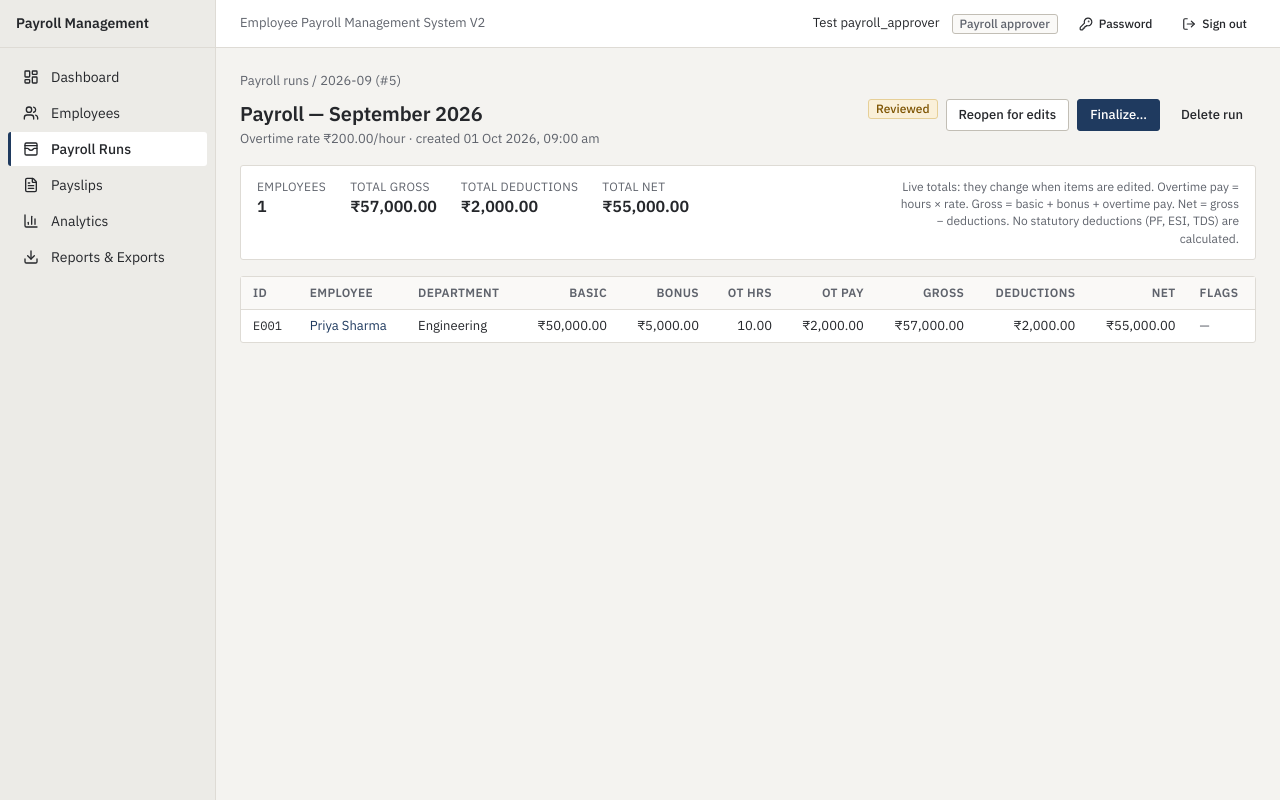
Finalize › without error flags: no acknowledgement needed
Click the button "Finalize…".
click(1118, 115)  # box [1077,99,1160,131]
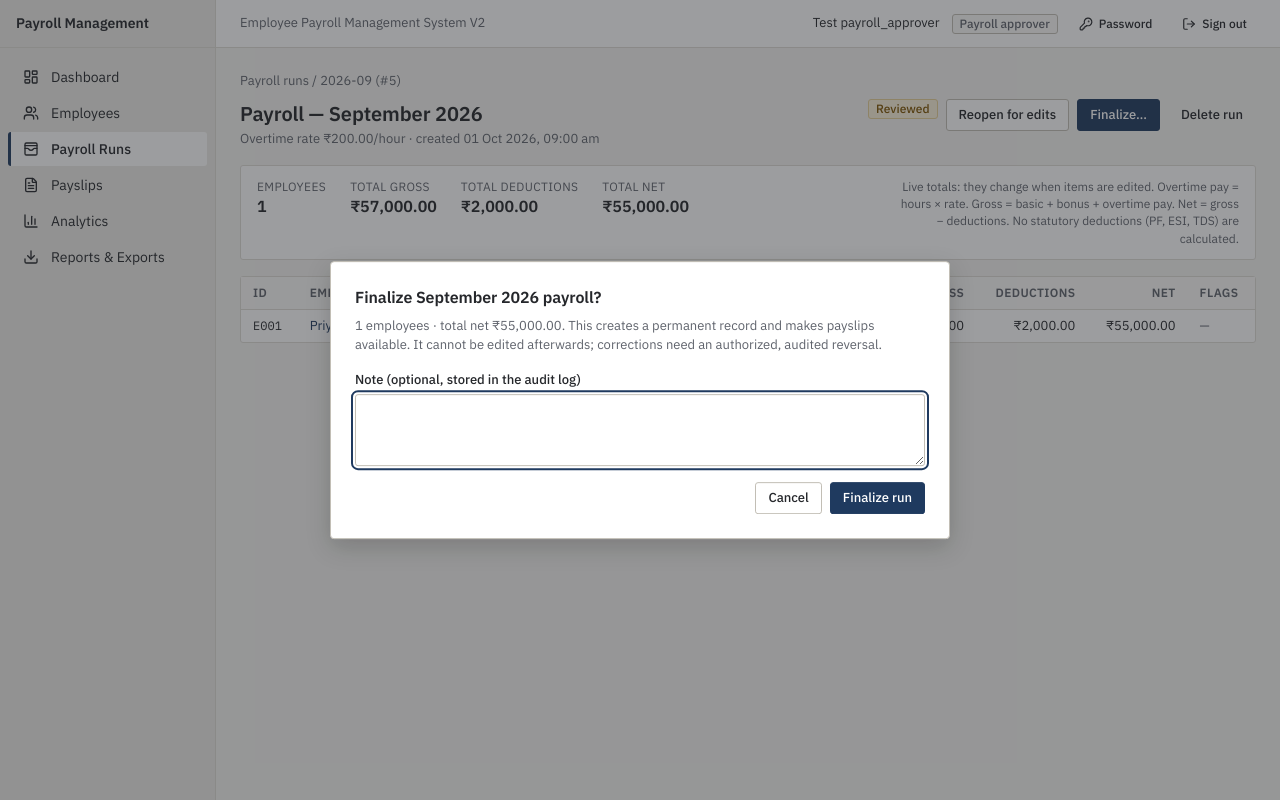
Result: the text "permanent record" is shown at [355,317,882,353]
Click the button "Finalize run".
click(877, 498)  # box [830,482,925,514]
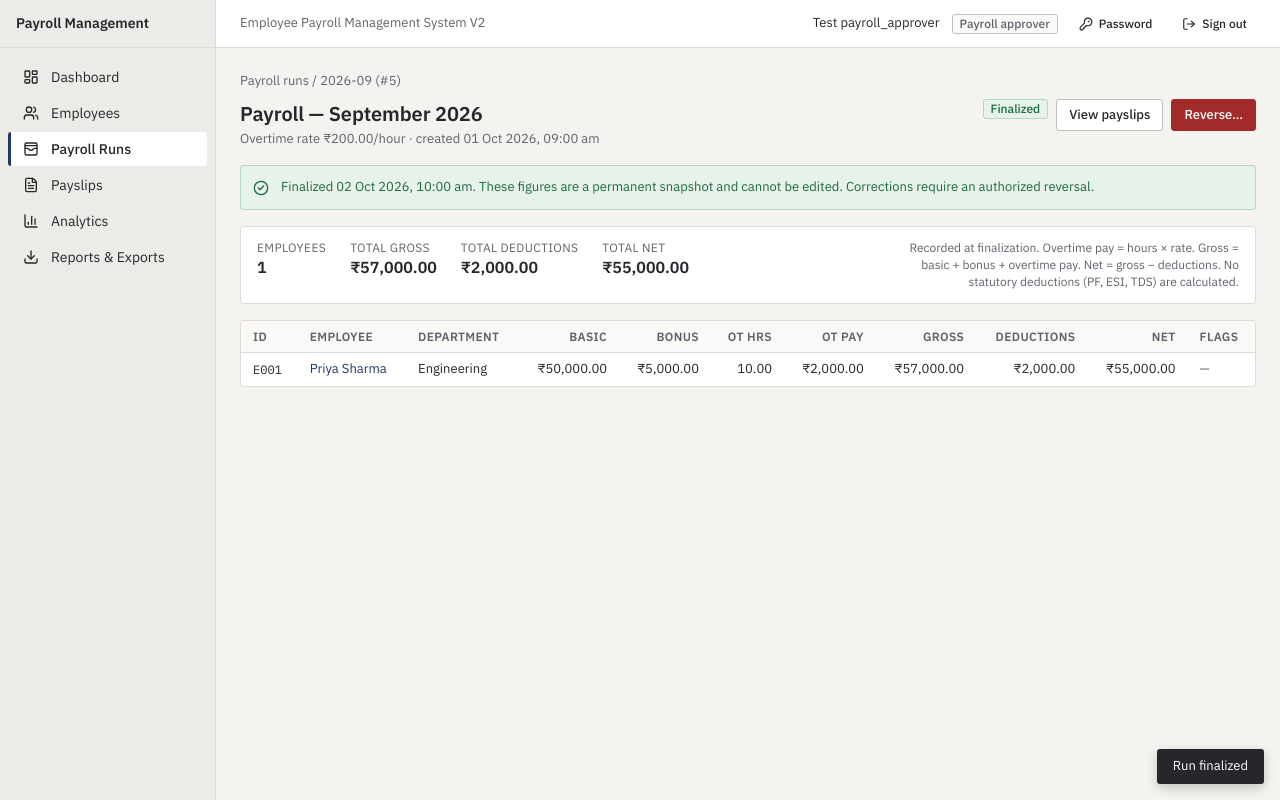
Result: the text "permanent snapshot and cannot be edited" is shown at [472,178,1094,195]
